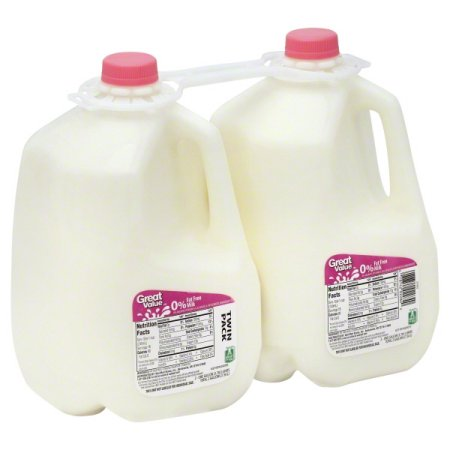milk: (22, 64, 262, 416), (239, 47, 450, 392)
